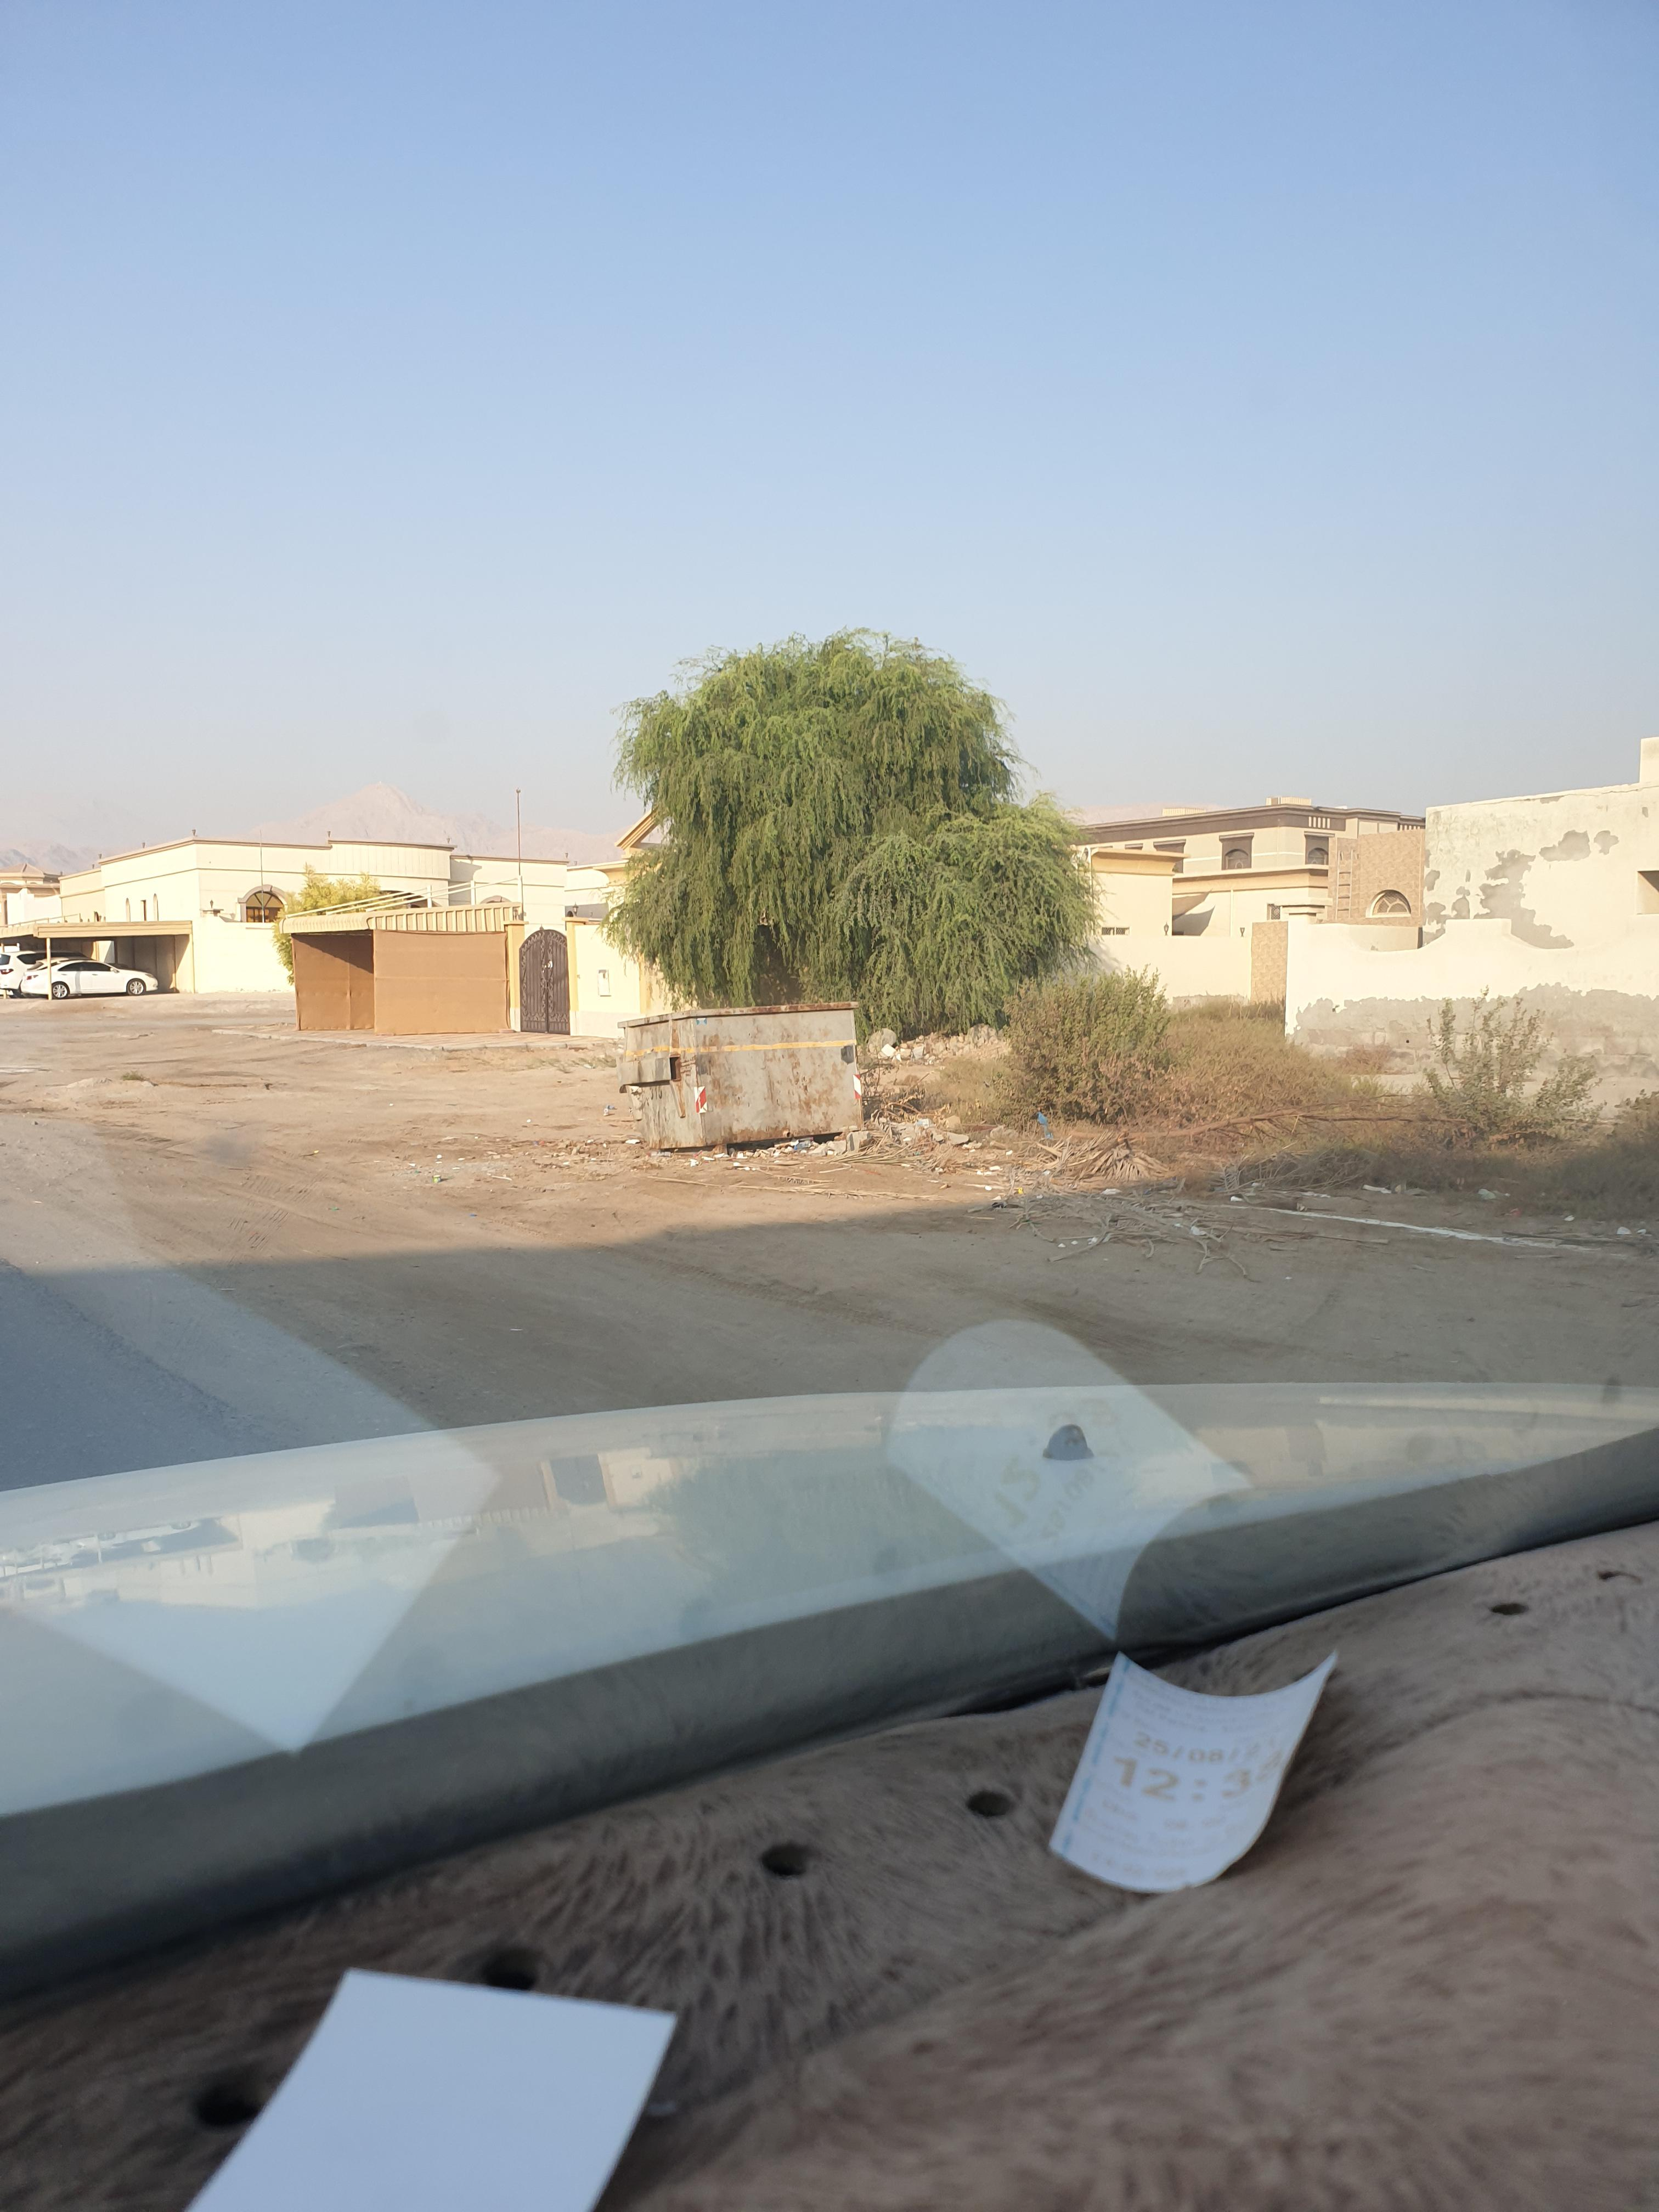fallen_trees: (640, 1169, 955, 1207), (978, 1186, 1093, 1251), (1054, 1211, 1150, 1270), (1014, 1144, 1129, 1191), (701, 1176, 884, 1204), (882, 1148, 999, 1184)
